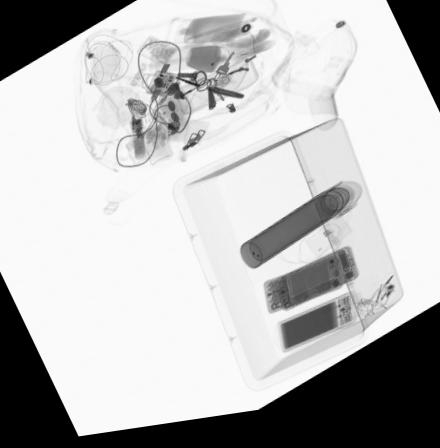Powerbank: (277, 303, 355, 361)
